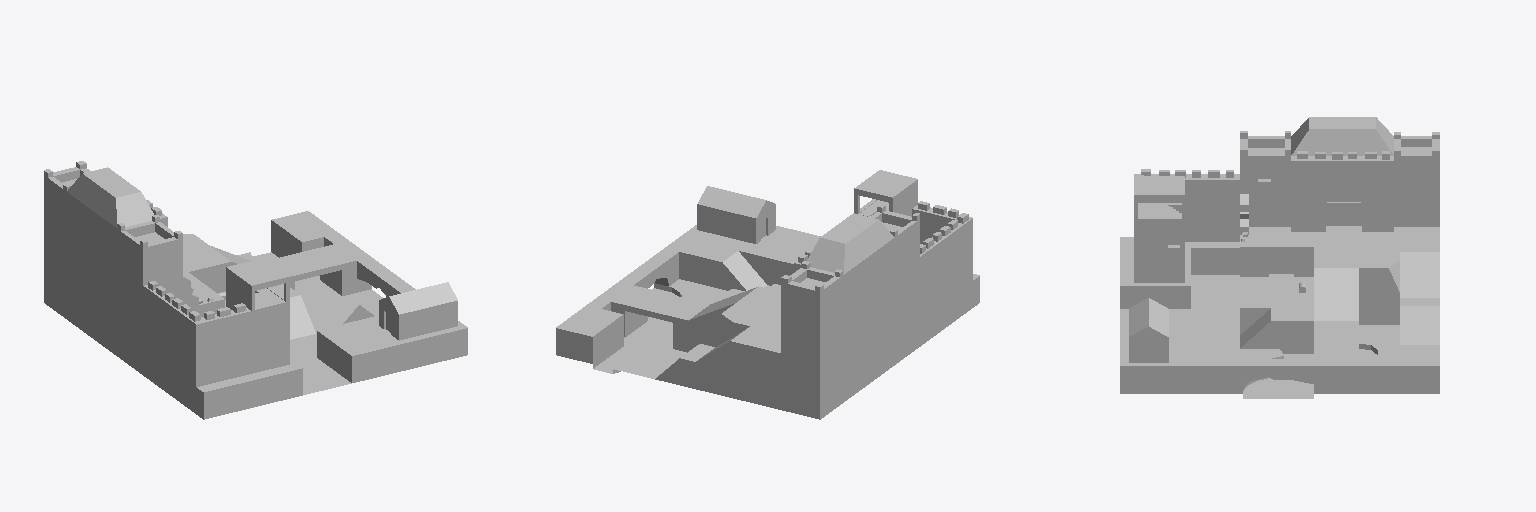
Rendered from castle.obj.
3 views of the same model, side by side, from view 1: azimuth 30°, elevation 25°; view 2: azimuth 150°, elevation 25°; view 3: azimuth 270°, elevation 25° (orthographic).
Size of the model in its own units: 13.73 by 7.72 by 14.37.